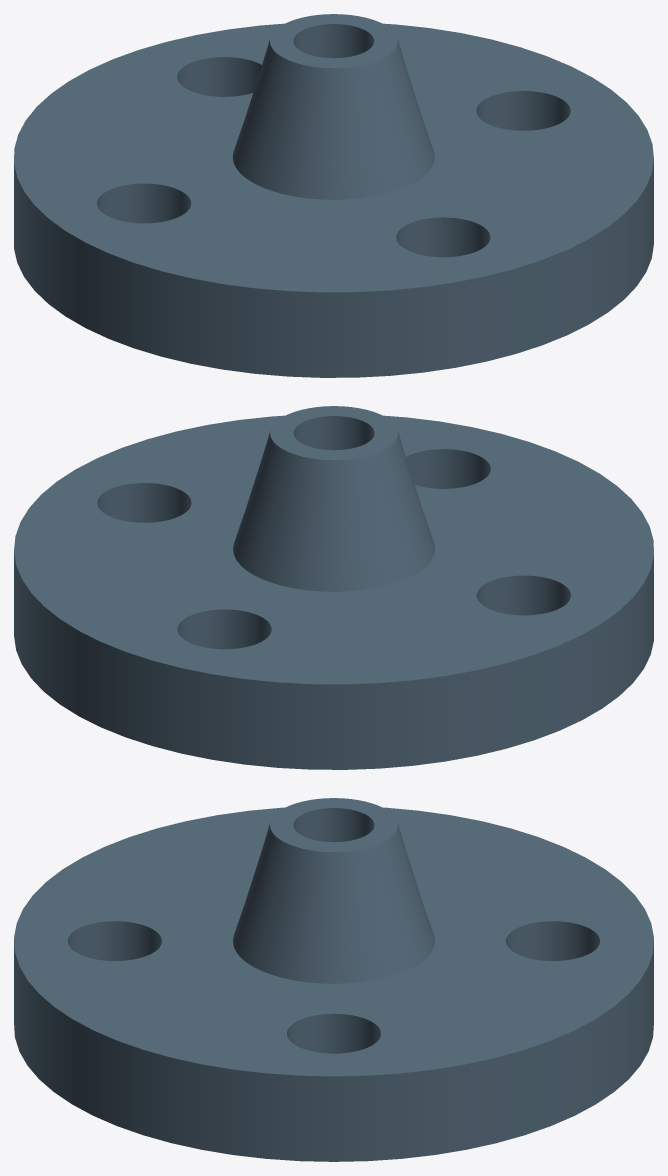
File: flanec-vorotnikovyj-DN15-PN40.glb
3 renders of one model, top to bottom at view 1: azimuth 30°, elevation 25°; view 2: azimuth 150°, elevation 25°; view 3: azimuth 270°, elevation 25°, orthographic.
Parts seen in each view (by area): view 1: Open CASCADE STEP translator 7.9 72; view 2: Open CASCADE STEP translator 7.9 72; view 3: Open CASCADE STEP translator 7.9 72.
Part boxes in pixels (bbox=[...]): Open CASCADE STEP translator 7.9 72: bbox=[14, 14, 653, 377]; Open CASCADE STEP translator 7.9 72: bbox=[14, 406, 653, 769]; Open CASCADE STEP translator 7.9 72: bbox=[14, 798, 653, 1161].
Size of the model in its own units: 94.93 by 35 by 94.97.
